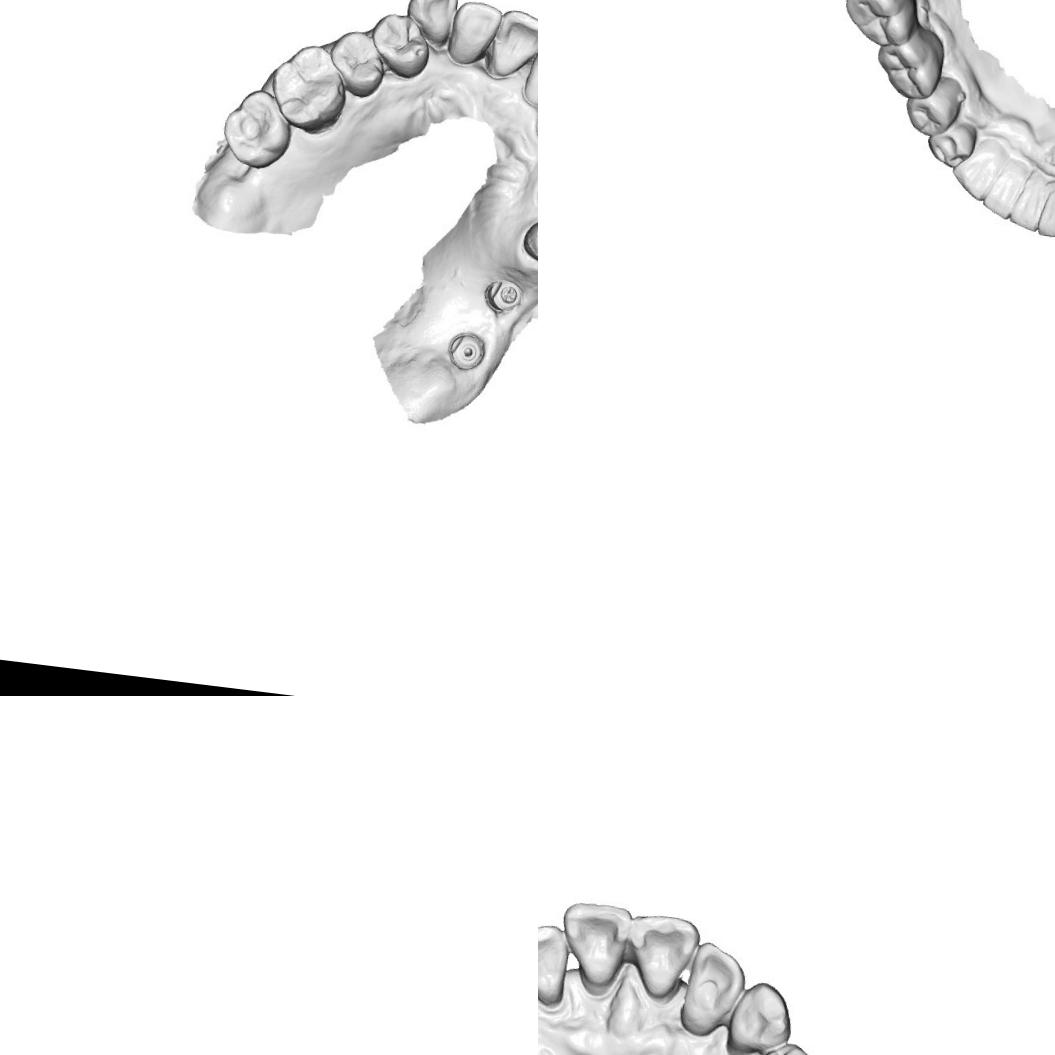canine: (721, 974, 795, 1055), (946, 132, 1013, 206), (402, 0, 461, 51)
implant: (446, 326, 490, 374), (480, 273, 524, 319)
incisor: (552, 896, 638, 995), (620, 905, 705, 999), (674, 936, 750, 1038), (490, 5, 538, 82), (447, 0, 500, 66), (538, 918, 576, 1010), (979, 156, 1027, 224), (1006, 168, 1046, 234), (1034, 182, 1055, 241), (522, 37, 538, 108)
molar: (263, 39, 353, 139), (217, 84, 298, 174), (870, 20, 948, 102), (839, 0, 922, 51)
premolar: (326, 24, 390, 101), (366, 9, 432, 81), (900, 70, 966, 140), (923, 116, 979, 170), (737, 1036, 820, 1055), (517, 212, 538, 276)
